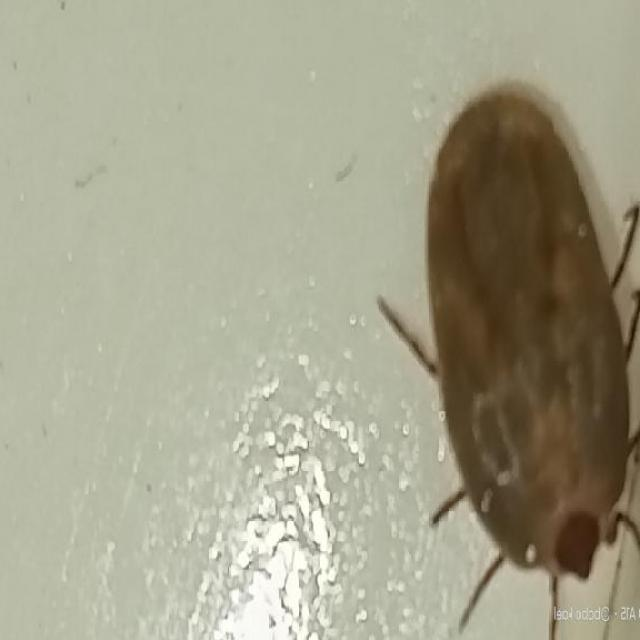Rhipicephalus Sanguineus-F-Fed: (374, 83, 640, 640)
